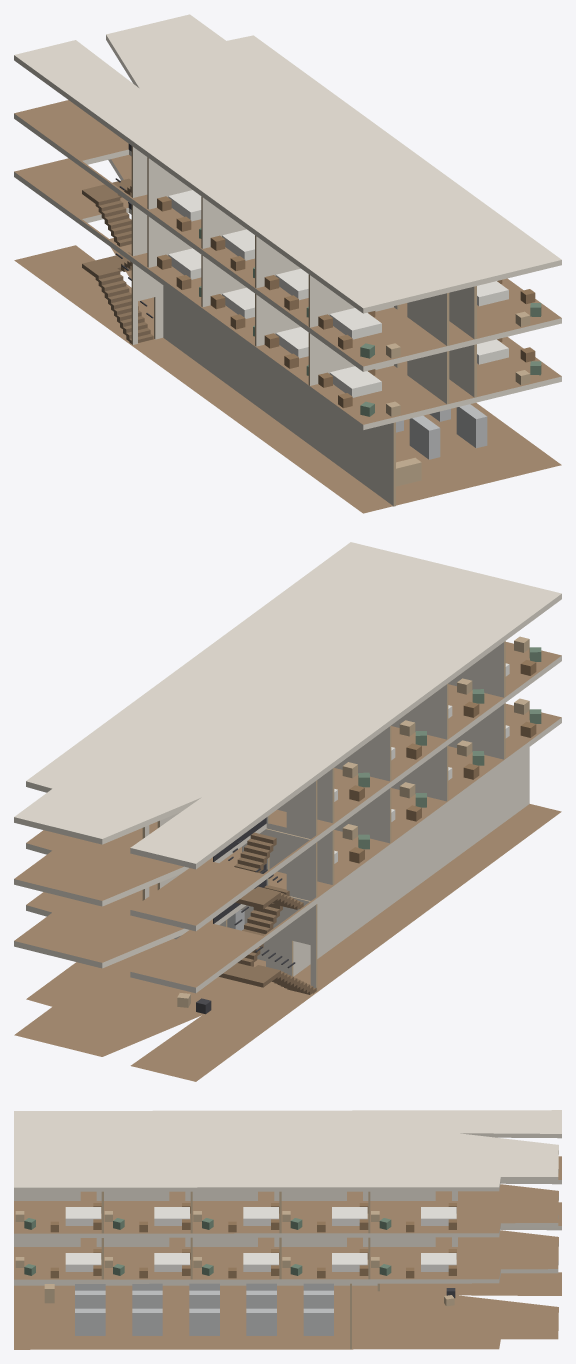
Rendered from interior.glb.
The picture shows the model from 3 angles, top to bottom: view 1: azimuth 30°, elevation 25°; view 2: azimuth 150°, elevation 25°; view 3: azimuth 270°, elevation 25°; orthographic projection. The views are drawn at different scales.
Parts seen in each view (by area): view 1: slabs, partitions, coarse-s1, coarse-s2, stair, coarse-s0; view 2: slabs, partitions, stair, coarse-s2, coarse-s1, coarse-s0; view 3: slabs, partitions, coarse-s0, coarse-s1, coarse-s2.
Boxes of the visible parts, left/top/right/bottom form: slabs: left=14, top=14, right=561, bottom=513; partitions: left=131, top=146, right=476, bottom=506; coarse-s1: left=157, top=248, right=541, bottom=416; coarse-s2: left=157, top=190, right=541, bottom=358; stair: left=82, top=144, right=153, bottom=343; coarse-s0: left=396, top=404, right=487, bottom=486; slabs: left=14, top=542, right=561, bottom=1081; partitions: left=142, top=641, right=529, bottom=990; stair: left=213, top=817, right=316, bottom=994; coarse-s2: left=334, top=636, right=541, bottom=801; coarse-s1: left=334, top=698, right=541, bottom=863; coarse-s0: left=177, top=910, right=244, bottom=1014; slabs: left=14, top=1110, right=561, bottom=1349; partitions: left=14, top=1191, right=457, bottom=1349; coarse-s0: left=44, top=1283, right=455, bottom=1335; coarse-s1: left=15, top=1249, right=456, bottom=1278; coarse-s2: left=15, top=1203, right=456, bottom=1232.
Size of the model in its own units: 10.28 by 10.04 by 30.69.
